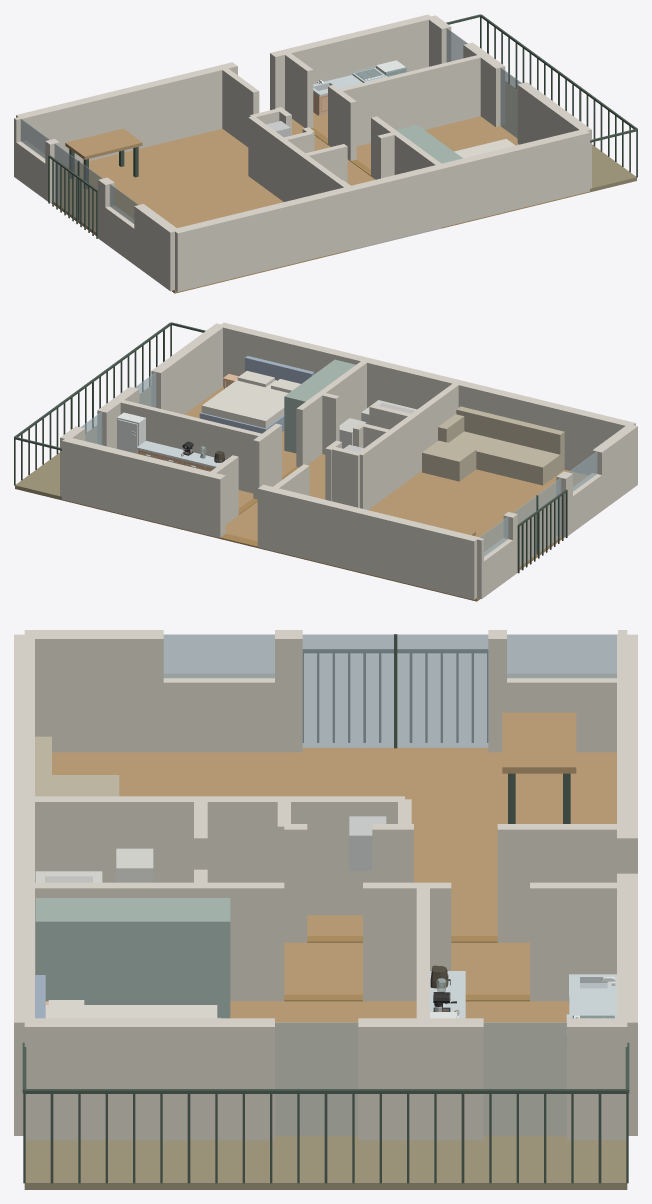
Rendered from nuremberg.glb.
The picture shows the model from 3 angles, top to bottom: view 1: azimuth 30°, elevation 25°; view 2: azimuth 150°, elevation 25°; view 3: azimuth 270°, elevation 25°; orthographic projection. The views are drawn at different scales.
Parts seen in each view (by area): view 1: Nuremberg / Living / dining floor, Nuremberg / Wall 03, Nuremberg / Wall 01, Nuremberg / Wall 10.001, Nuremberg / Wall 08, Nuremberg / Wall 01.001, Nuremberg / Wall 10, Nuremberg / Wall 04, Nuremberg / Wall 02, Nuremberg / Wall 09, Nuremberg / Bedroom floor, Nuremberg / Wall 06.002 (+28 smaller); view 2: Nuremberg / Wall 01, Nuremberg / Wall 01.001, Nuremberg / Living / dining floor, Nuremberg / Sofa blockout, Nuremberg / Wall 03, Nuremberg / Wall 08, Nuremberg / Wall 09, Nuremberg / Wall 10.001, Nuremberg / Wall 04, Nuremberg / Wall 07, Nuremberg / Wall 10, Nuremberg / Mattress (+30 smaller); view 3: Nuremberg / Living / dining floor, Nuremberg / Balcony floor, Nuremberg / Wall 09, Nuremberg / french balcony glazing, Nuremberg / Wardrobe / low blockout, Nuremberg / Wall 02, Nuremberg / Wall 09.001, Nuremberg / Wall 04, Nuremberg / Bedroom floor, Nuremberg / Wall 11, Nuremberg / Kitchen floor, Nuremberg / Wall 07 (+33 smaller).
Boxes of the visible parts, left/top/right/bottom form: Nuremberg / Living / dining floor: left=51, top=128, right=349, bottom=293; Nuremberg / Wall 03: left=177, top=187, right=352, bottom=290; Nuremberg / Wall 01: left=16, top=62, right=237, bottom=166; Nuremberg / Wall 10.001: left=442, top=130, right=585, bottom=226; Nuremberg / Wall 08: left=339, top=54, right=484, bottom=146; Nuremberg / Wall 01.001: left=270, top=14, right=433, bottom=110; Nuremberg / Wall 10: left=347, top=165, right=441, bottom=249; Nuremberg / Wall 04: left=248, top=116, right=306, bottom=201; Nuremberg / Wall 02: left=134, top=204, right=179, bottom=291; Nuremberg / Wall 09: left=517, top=82, right=591, bottom=188; Nuremberg / Bedroom floor: left=356, top=116, right=587, bottom=228; Nuremberg / Wall 06.002: left=222, top=68, right=259, bottom=146; Nuremberg / Wall 01: left=257, top=484, right=479, bottom=599; Nuremberg / Wall 01.001: left=62, top=437, right=225, bottom=537; Nuremberg / Living / dining floor: left=273, top=469, right=587, bottom=601; Nuremberg / Sofa blockout: left=422, top=406, right=564, bottom=485; Nuremberg / Wall 03: left=456, top=380, right=630, bottom=474; Nuremberg / Wall 08: left=116, top=399, right=261, bottom=493; Nuremberg / Wall 09: left=151, top=323, right=225, bottom=414; Nuremberg / Wall 10.001: left=223, top=323, right=365, bottom=386; Nuremberg / Wall 04: left=357, top=415, right=415, bottom=509; Nuremberg / Wall 07: left=296, top=359, right=369, bottom=467; Nuremberg / Wall 10: left=367, top=359, right=460, bottom=409; Nuremberg / Mattress: left=201, top=379, right=288, bottom=428; Nuremberg / Living / dining floor: left=52, top=747, right=616, bottom=935; Nuremberg / Balcony floor: left=24, top=1136, right=627, bottom=1189; Nuremberg / Wall 09: left=24, top=1018, right=274, bottom=1140; Nuremberg / french balcony glazing: left=302, top=634, right=488, bottom=747; Nuremberg / Wardrobe / low blockout: left=35, top=898, right=230, bottom=1018; Nuremberg / Wall 02: left=24, top=630, right=163, bottom=752; Nuremberg / Wall 09.001: left=358, top=1022, right=483, bottom=1140; Nuremberg / Wall 04: left=200, top=796, right=404, bottom=915; Nuremberg / Bedroom floor: left=230, top=1001, right=416, bottom=1135; Nuremberg / Wall 11: left=35, top=799, right=200, bottom=882; Nuremberg / Kitchen floor: left=465, top=1001, right=569, bottom=1135; Nuremberg / Wall 07: left=24, top=882, right=284, bottom=1001.
Bounding box in the file's own units: 10.89 × 1.38 × 6.5.
